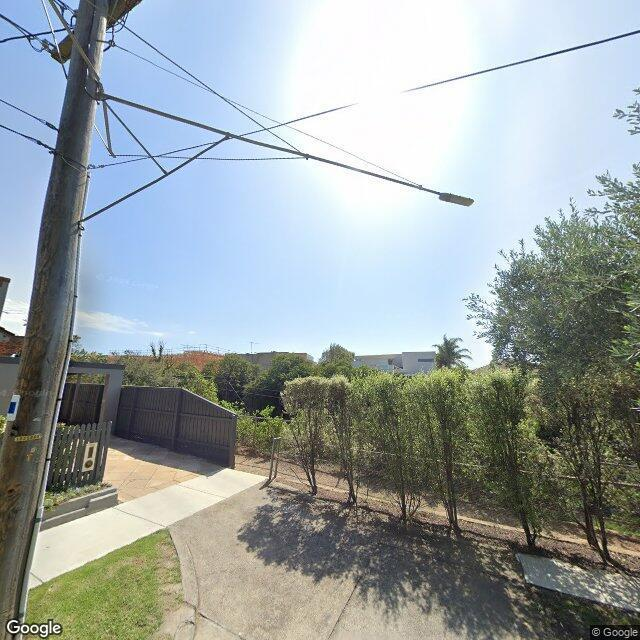crossarm: (51, 0, 143, 61)
streetlight: (92, 92, 475, 207)
timber-pole: (0, 0, 109, 640)
